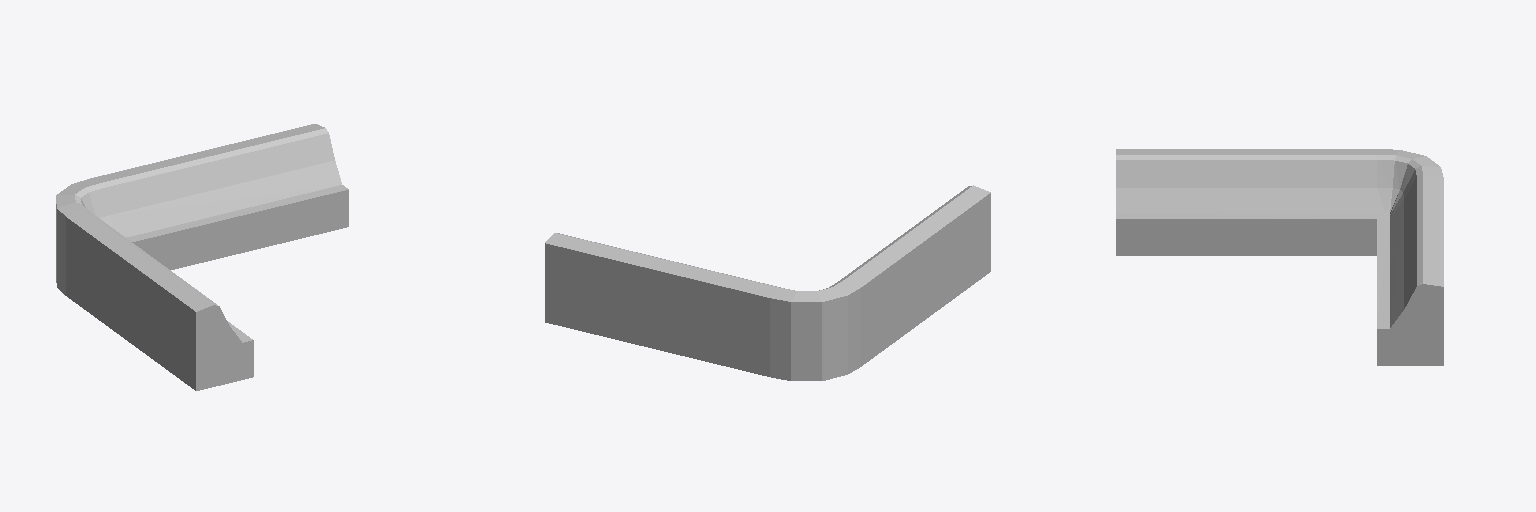
Rendered from InwardCurvedWall_Lower.obj.
3 views of the same model, side by side, from view 1: azimuth 30°, elevation 25°; view 2: azimuth 150°, elevation 25°; view 3: azimuth 270°, elevation 25° (orthographic).
Visible parts, largest first — view 1: InwardCurvedWall_Lower; view 2: InwardCurvedWall_Lower; view 3: InwardCurvedWall_Lower.
Boxes of the visible parts, x1=… form: InwardCurvedWall_Lower: x1=56, y1=124, x2=348, y2=390; InwardCurvedWall_Lower: x1=545, y1=185, x2=990, y2=380; InwardCurvedWall_Lower: x1=1116, y1=149, x2=1443, y2=365.
Bounding box in the file's own units: 10.03 × 2.78 × 10.05.